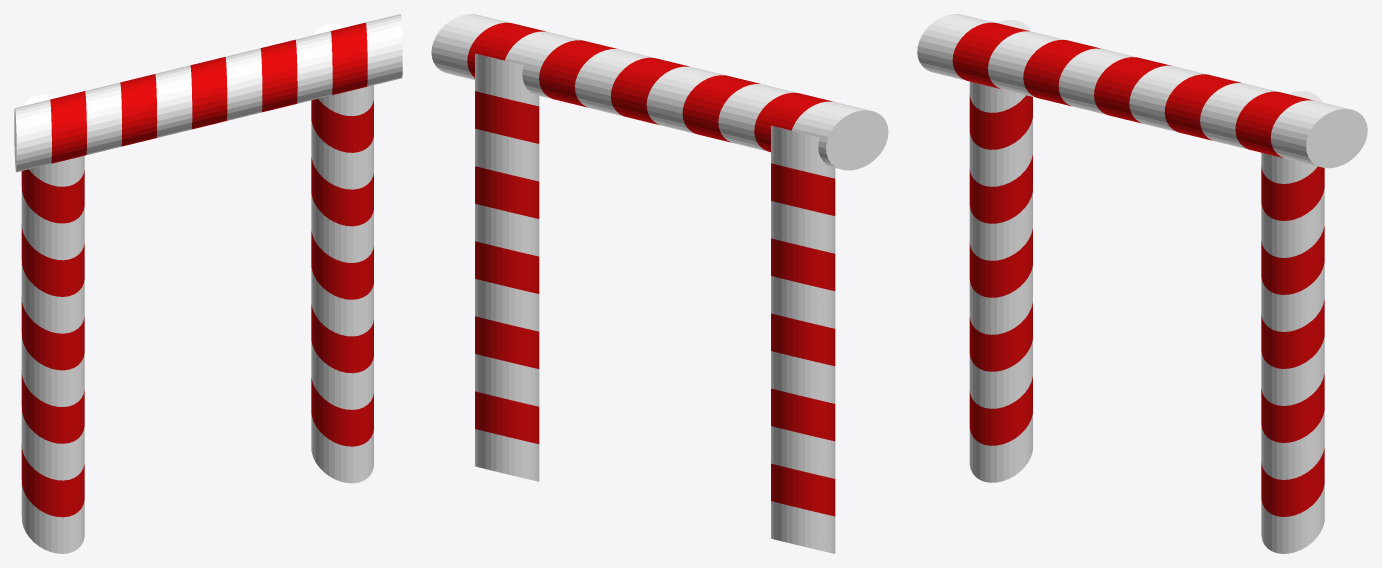
The model's file is porta_testte.fbx.
3 views of the same model, side by side, from view 1: azimuth 30°, elevation 25°; view 2: azimuth 150°, elevation 25°; view 3: azimuth 330°, elevation 25° (orthographic). The views are drawn at different scales.
Visible parts, largest first — view 1: Cylinder.002, Cylinder, Cylinder.001; view 2: Cylinder.002, Cylinder, Cylinder.001; view 3: Cylinder.002, Cylinder, Cylinder.001.
Part boxes in pixels (x1,y1,x2,y2): Cylinder.002: (14, 14, 402, 172); Cylinder: (21, 94, 84, 553); Cylinder.001: (311, 24, 373, 483); Cylinder.002: (431, 14, 888, 170); Cylinder: (771, 125, 835, 553); Cylinder.001: (475, 53, 539, 481); Cylinder.002: (917, 14, 1367, 168); Cylinder: (969, 20, 1032, 482); Cylinder.001: (1261, 91, 1324, 553).
Size of the model in its own units: 1146 by 1177 by 189.
